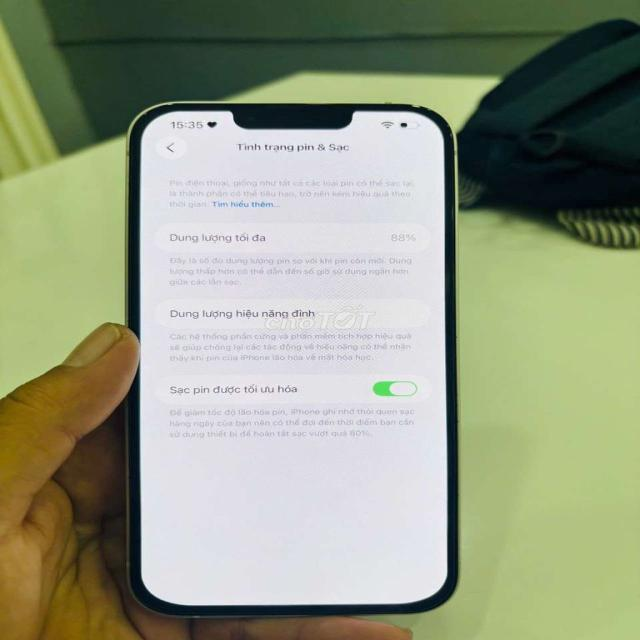gen_14: (114, 92, 467, 619)
